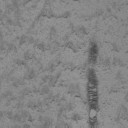oxide scale of plate system: (85, 68, 103, 128), (87, 41, 100, 66)
